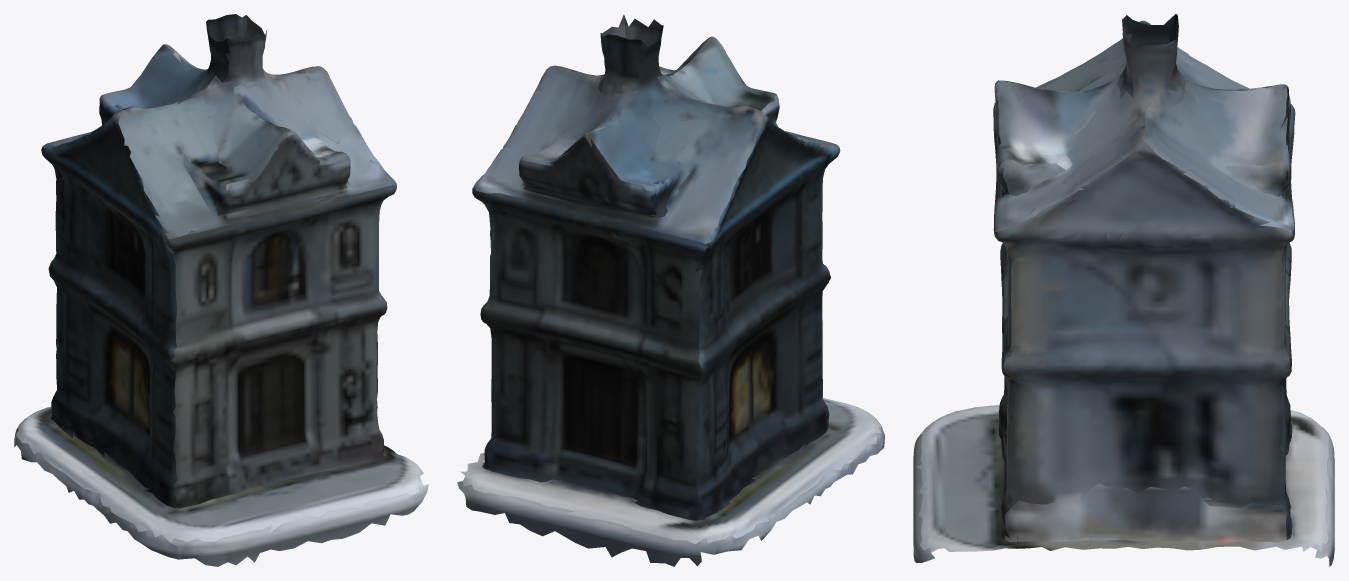
The picture shows the model from 3 angles, left to right: view 1: azimuth 30°, elevation 25°; view 2: azimuth 150°, elevation 25°; view 3: azimuth 270°, elevation 25°; orthographic projection. The views are drawn at different scales.
Parts seen in each view (by area): view 1: input.004; view 2: input.004; view 3: input.004.
Part boxes in pixels (x1,y1,x2,y2): input.004: [14, 14, 428, 566]; input.004: [457, 14, 884, 566]; input.004: [913, 14, 1334, 566].
Bounding box in the file's own units: 8.95 × 13.87 × 10.38.
